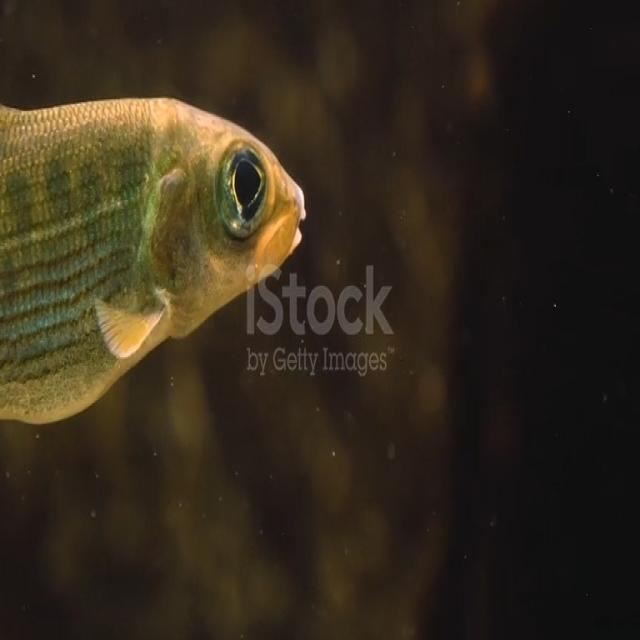fish: (1, 81, 312, 434)
